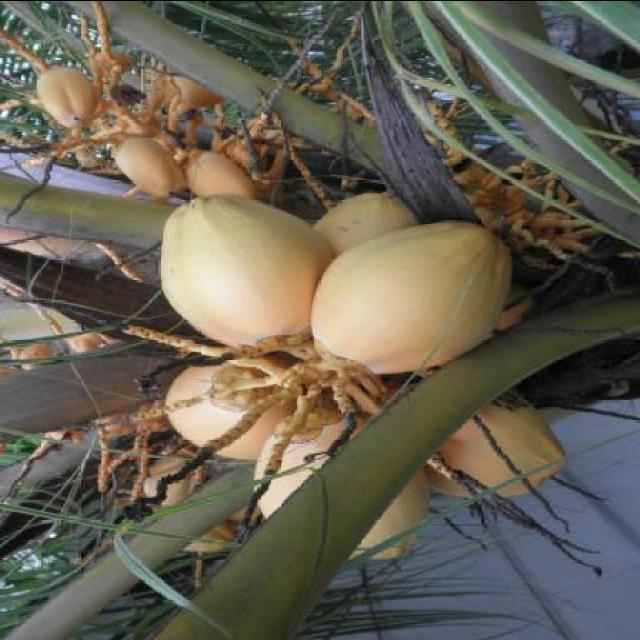Coconut: (140, 194, 572, 563)
